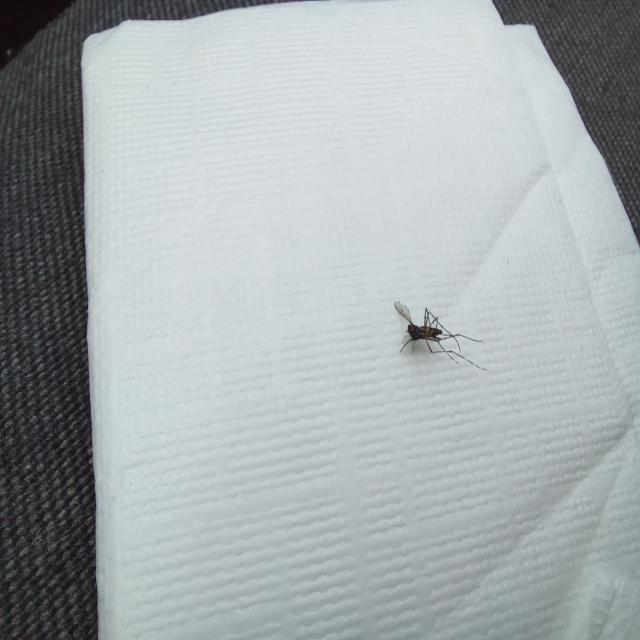albopictus: (392, 292, 488, 370)
